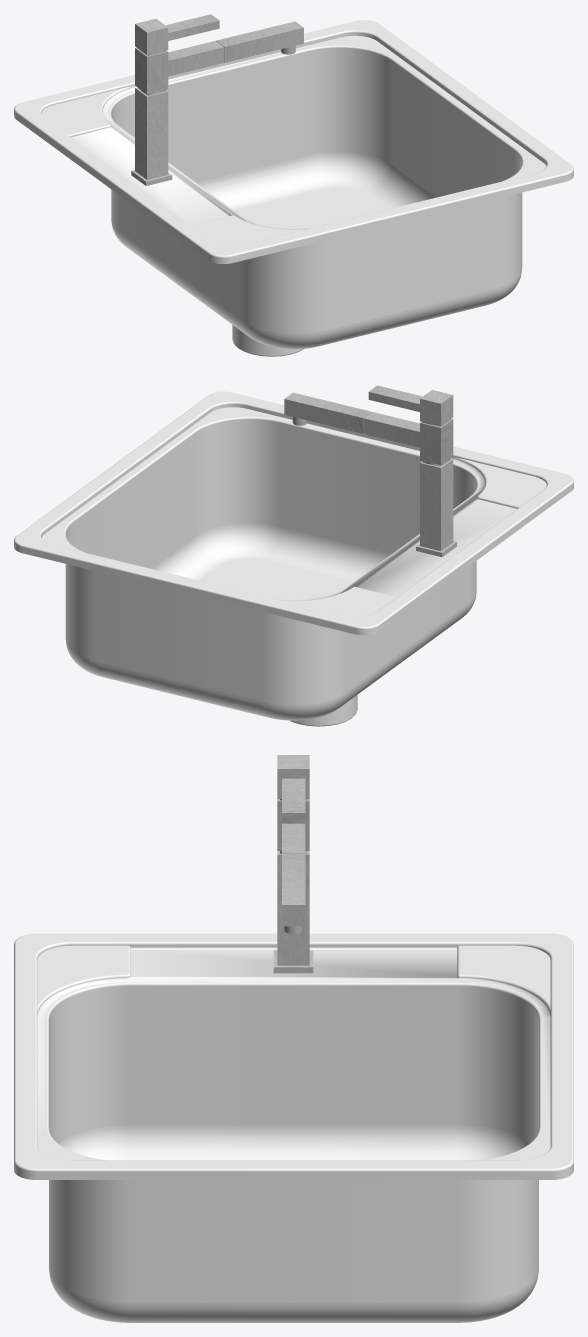
Rendered from sink.glb.
3 views of the same model, one above another, from view 1: azimuth 30°, elevation 25°; view 2: azimuth 150°, elevation 25°; view 3: azimuth 270°, elevation 25° (orthographic). The views are drawn at different scales.
Visible parts, largest first — view 1: 3d-model; view 2: 3d-model; view 3: 3d-model.
Part boxes in pixels (box(x1,y1,x2,y2)): 3d-model: box(14, 14, 573, 356); 3d-model: box(14, 385, 573, 726); 3d-model: box(14, 755, 573, 1322).
Size of the model in its own units: 156 by 141 by 156.
1 material, 1 textured.
